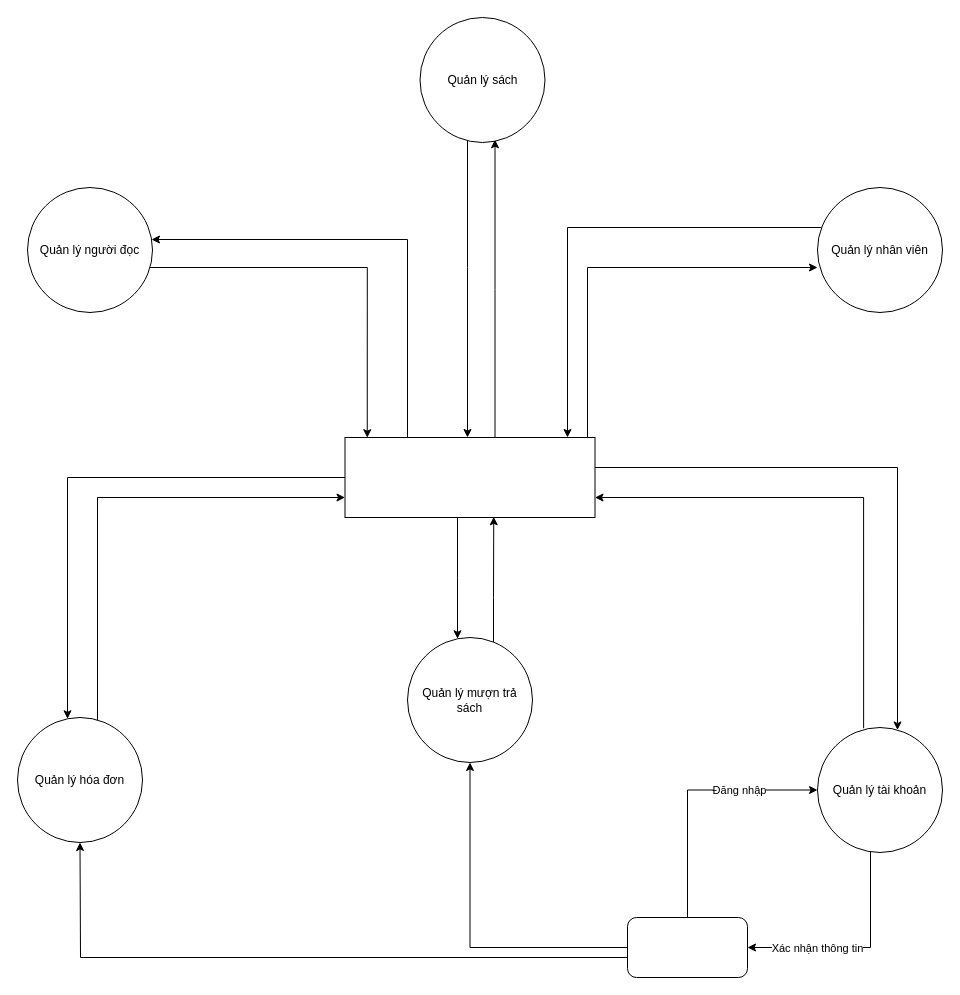
Some shapes in this 960 by 995 pixel diagram are drawn without their labels. The centre of each missing label's shape, as x and y in pixels:
"Kho dữ liệu" goes at (469,477).
"Người dùng" goes at (687,947).
